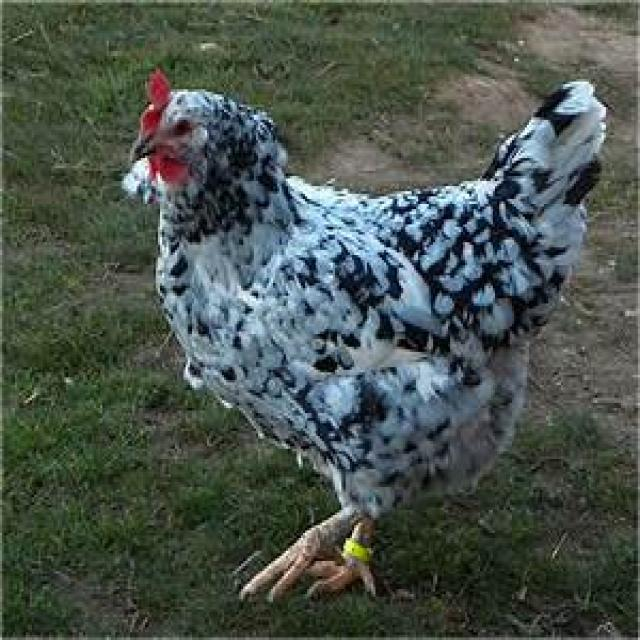hen: (122, 70, 608, 601)
